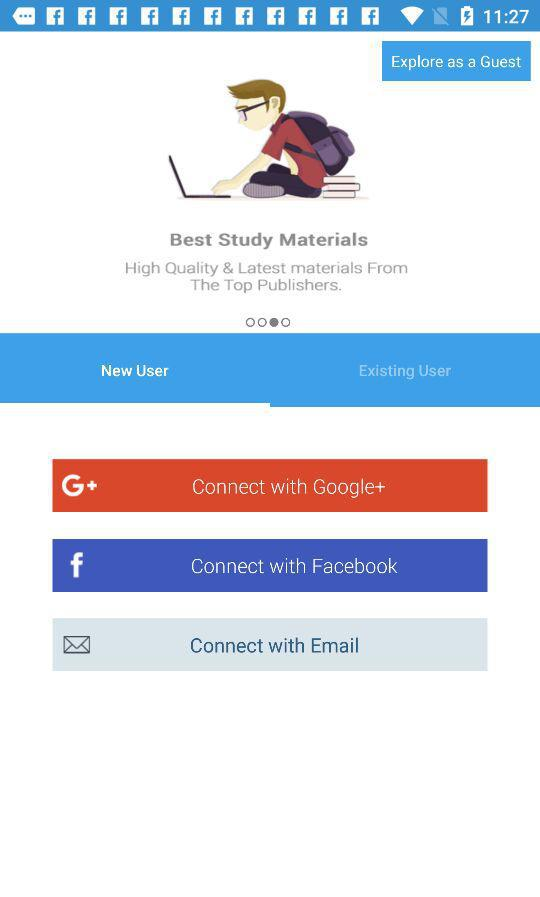Image: (168, 79, 369, 201)
Multi_Tab: (2, 334, 540, 408)
PageIndicator: (245, 318, 291, 329)
Text: (126, 261, 408, 295), (171, 232, 369, 251), (359, 364, 452, 381), (102, 364, 170, 378)
TextButton: (53, 460, 488, 513), (53, 539, 488, 592), (53, 618, 488, 671), (382, 41, 531, 82)
UpperTaskBar: (1, 1, 540, 33)
